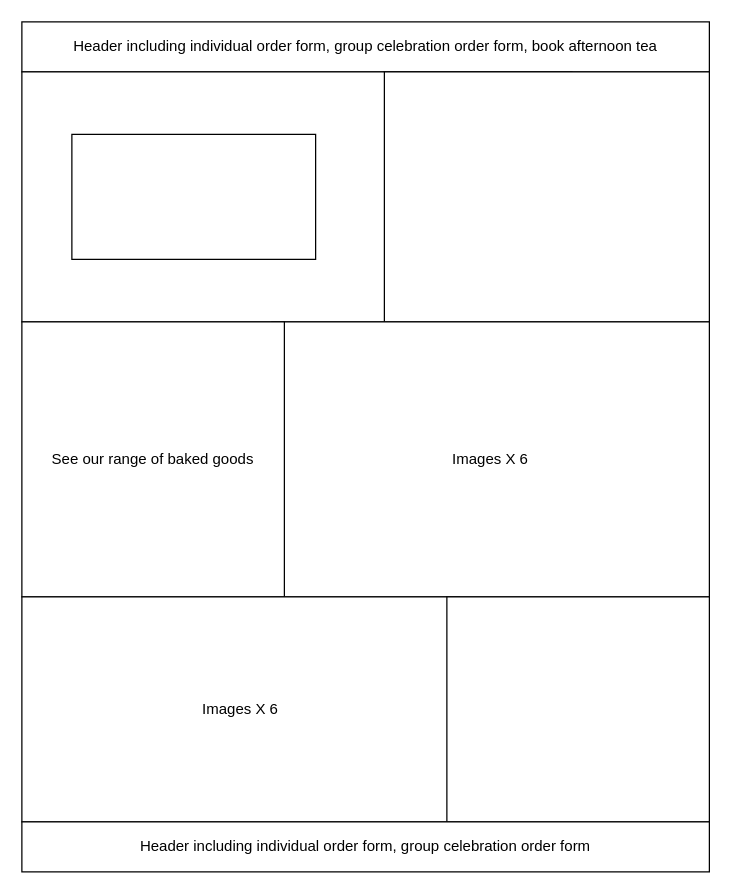
Some shapes in this 731 by 894 pixel diagram are drawn without their labels. The centre of each missing label's shape, as x and y in pixels:
"Booking for afternoon tea" goes at [577,709].
"Introduction" goes at [546,196].
"Video" goes at [193,196].
